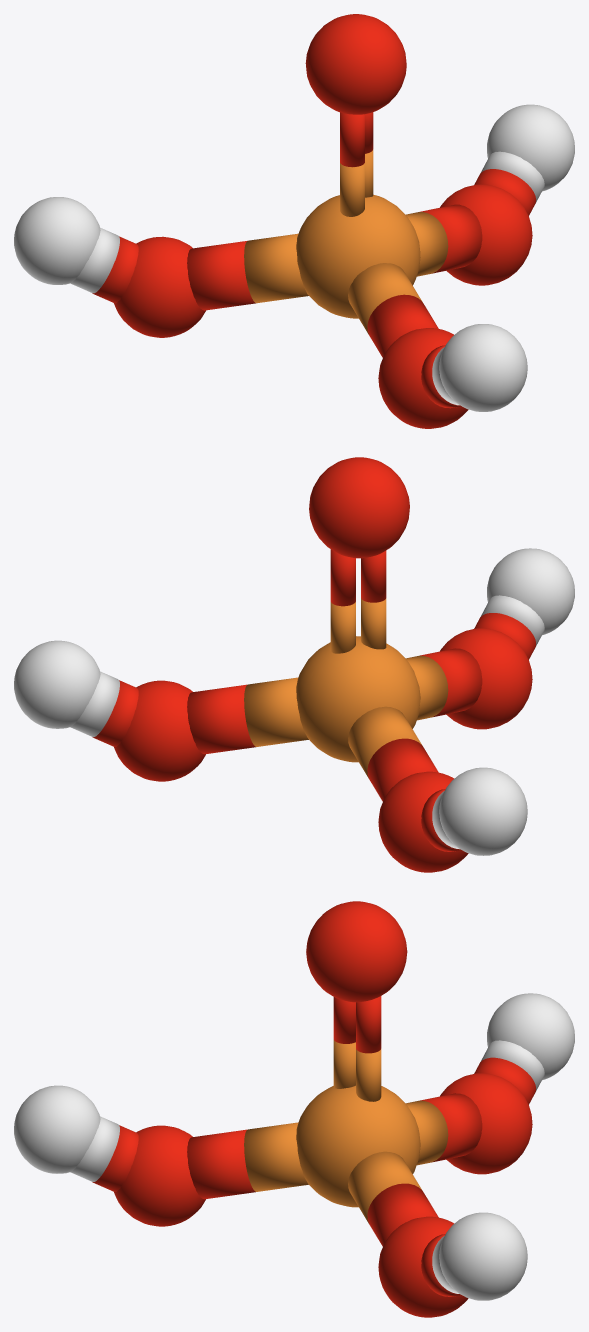
The model's file is Ортофосфорная.gltf.
3 views of the same model, one above another, from view 1: azimuth 30°, elevation 25°; view 2: azimuth 150°, elevation 25°; view 3: azimuth 270°, elevation 25° (orthographic).
Parts seen in each view (by area): view 1: Cylinder.003; view 2: Cylinder.003; view 3: Cylinder.003.
Boxes of the visible parts, bbox=[...] form: Cylinder.003: bbox=[14, 14, 574, 428]; Cylinder.003: bbox=[14, 457, 574, 872]; Cylinder.003: bbox=[14, 901, 574, 1317].
Size of the model in its own units: 9.6 by 5.72 by 8.87.
